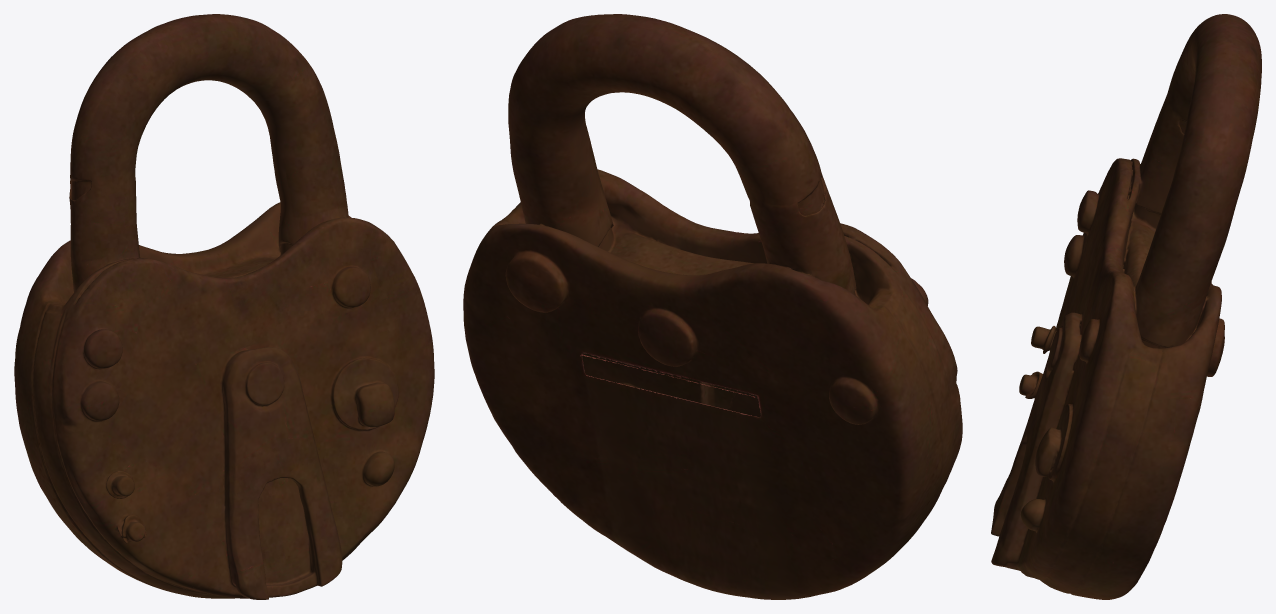
File: katanac.glb
3 views of the same model, side by side, from view 1: azimuth 30°, elevation 25°; view 2: azimuth 150°, elevation 25°; view 3: azimuth 270°, elevation 25° (orthographic). The views are drawn at different scales.
Size of the model in its own units: 1.38 by 1.81 by 0.8047.
1 material, 1 textured.
